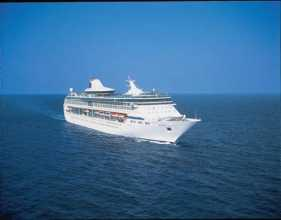youlun: (56, 71, 201, 145)
